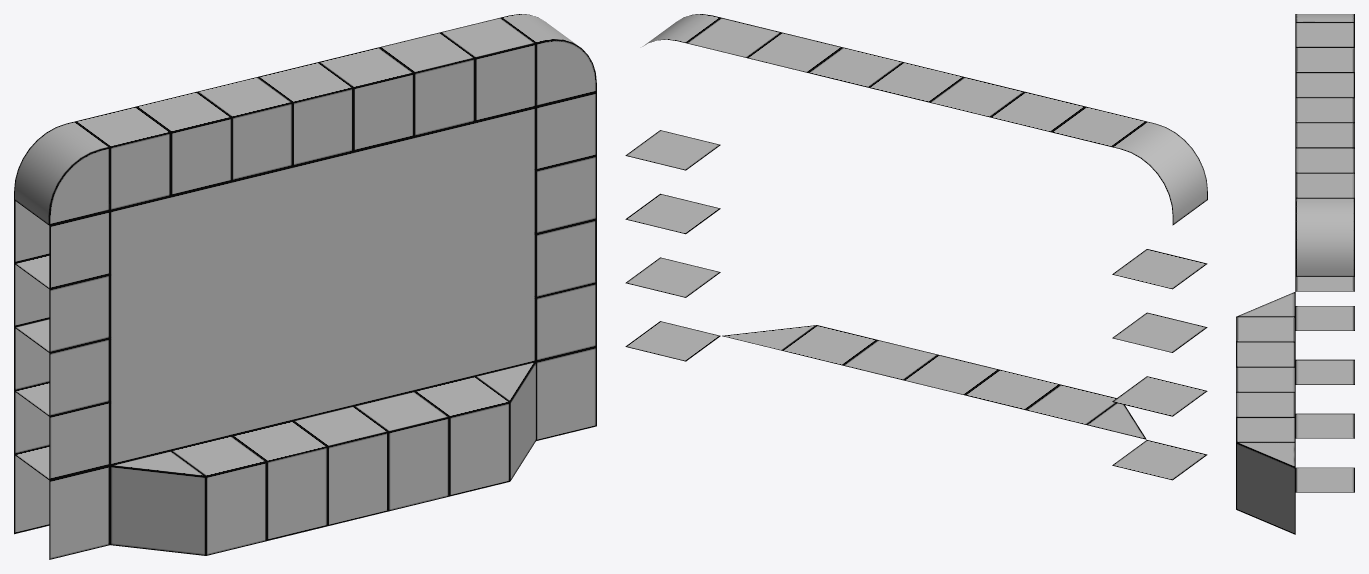
The model's file is pantalla.glb.
3 views of the same model, side by side, from view 1: azimuth 30°, elevation 25°; view 2: azimuth 150°, elevation 25°; view 3: azimuth 270°, elevation 25° (orthographic). The views are drawn at different scales.
Visible parts, largest first — view 1: m_pantalla; view 2: m_pantalla; view 3: m_pantalla.
Part boxes in pixels (bbox=[...]): m_pantalla: bbox=[14, 14, 596, 559]; m_pantalla: bbox=[625, 14, 1207, 480]; m_pantalla: bbox=[1236, 14, 1354, 534].
Bounding box in the file's own units: 0.18 × 0.125 × 0.04.
1 material, 1 textured.
